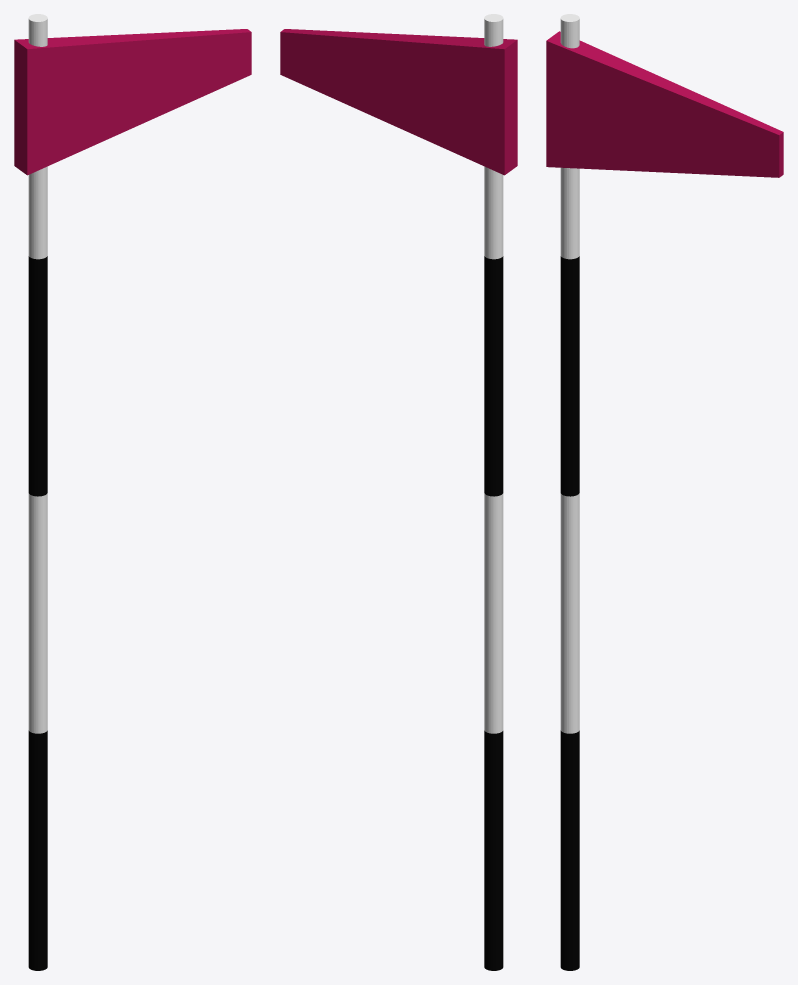
The model's file is golf-flag.obj.
3 views of the same model, side by side, from view 1: azimuth 30°, elevation 25°; view 2: azimuth 150°, elevation 25°; view 3: azimuth 330°, elevation 25° (orthographic).
Parts seen in each view (by area): view 1: flag; view 2: flag; view 3: flag.
Boxes of the visible parts, left/top/right/bottom form: flag: left=14, top=14, right=251, bottom=970; flag: left=280, top=14, right=517, bottom=970; flag: left=546, top=14, right=783, bottom=970.
Size of the model in its own units: 0.555 by 2.2 by 0.055.
